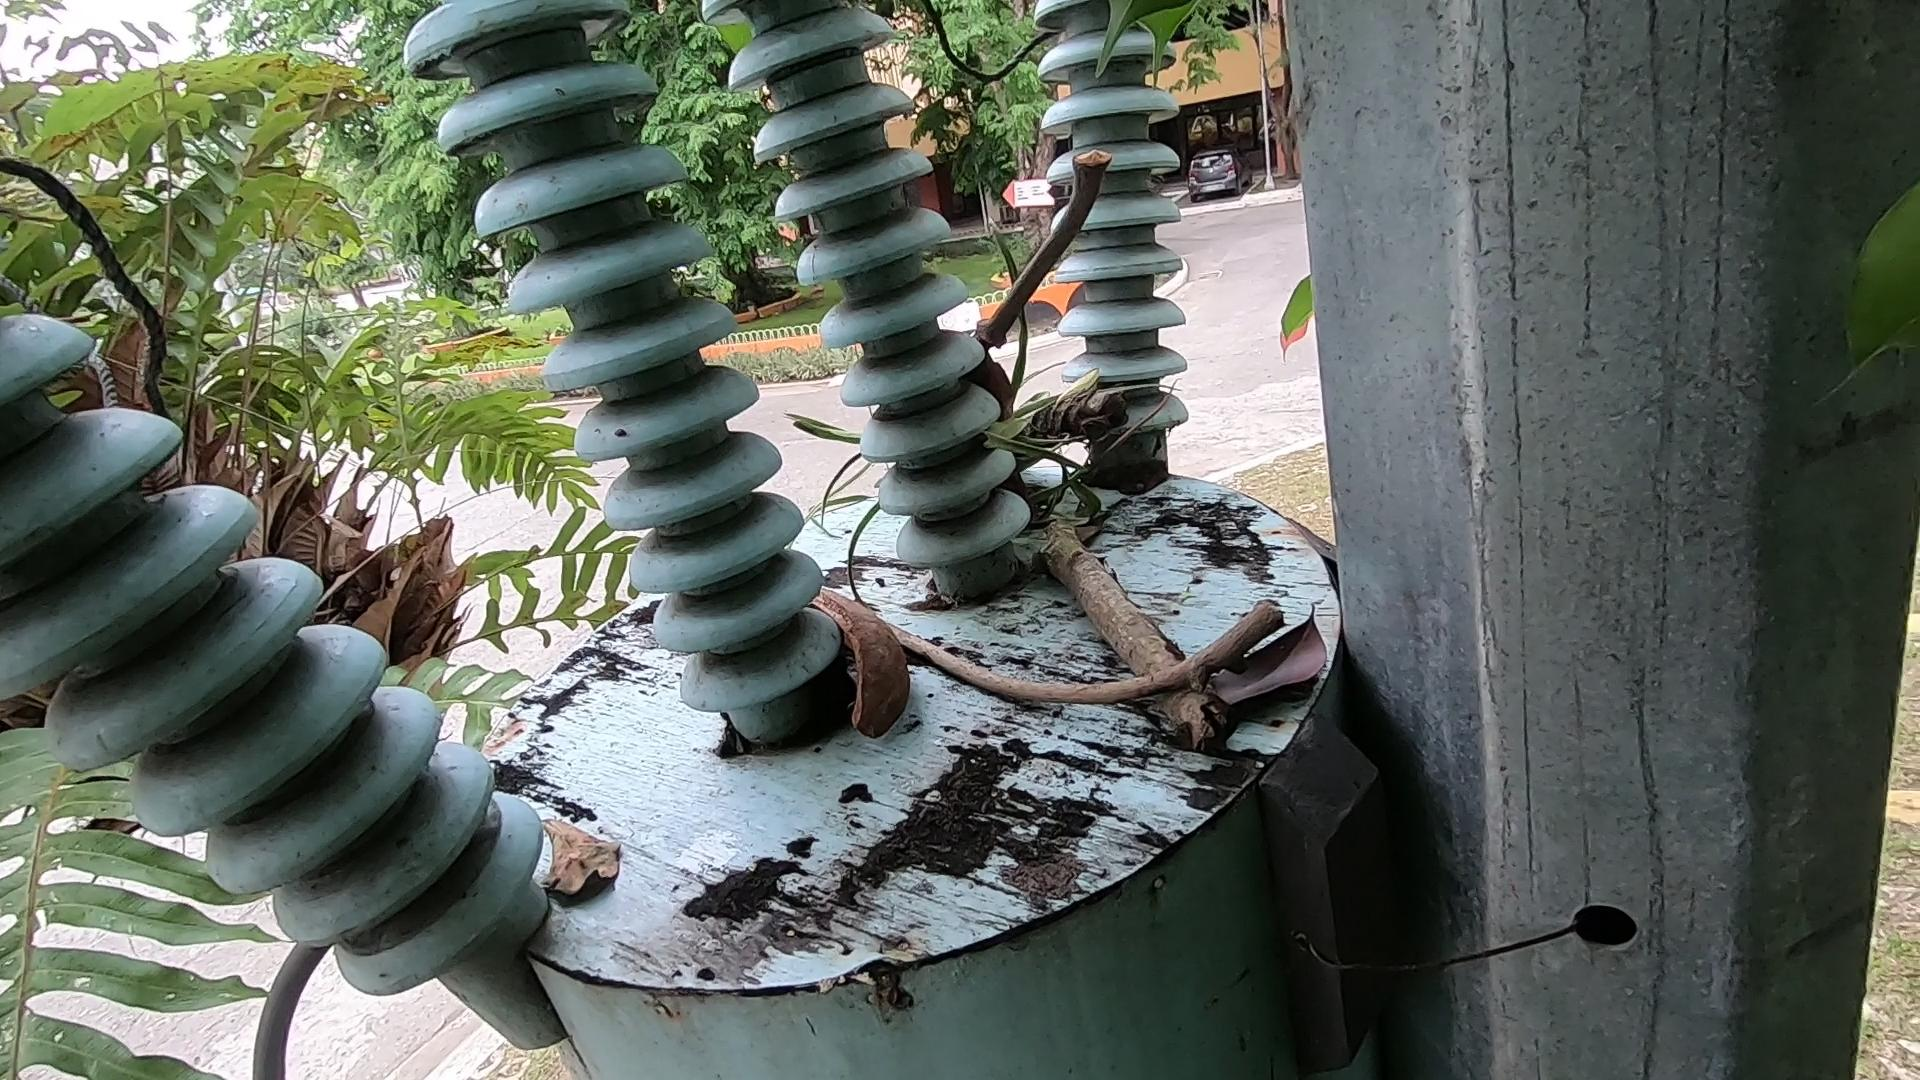branch with leaves: (935, 290, 1323, 824)
leaf: (483, 790, 666, 907), (1183, 609, 1331, 752)
mahogany fruit: (938, 307, 1065, 555), (787, 559, 928, 778)
tree branch: (860, 603, 1320, 764), (943, 99, 1106, 433)
